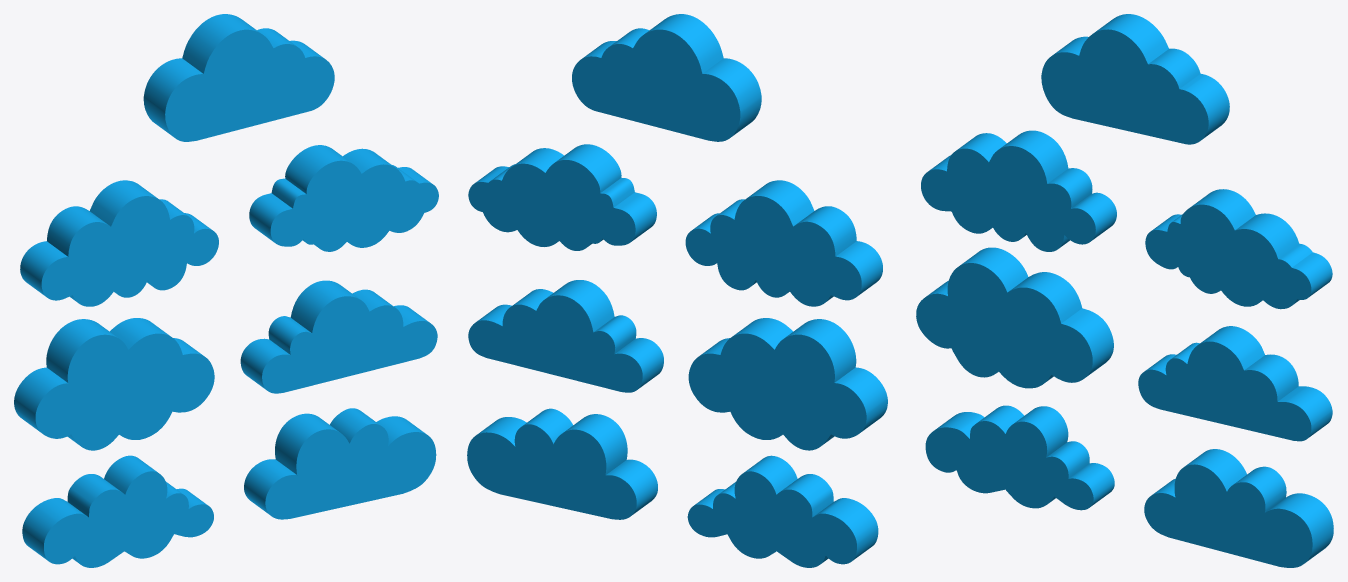
The model's file is storm-cloud.glb.
3 views of the same model, side by side, from view 1: azimuth 30°, elevation 25°; view 2: azimuth 150°, elevation 25°; view 3: azimuth 330°, elevation 25° (orthographic).
Parts seen in each view (by area): view 1: Curve, Curve.002, Curve.004, Curve.005, Curve.001, Curve.006, Curve.007; view 2: Curve, Curve.002, Curve.004, Curve.005, Curve.001, Curve.006, Curve.007; view 3: Curve, Curve.002, Curve.004, Curve.005, Curve.001, Curve.006, Curve.007.
Part boxes in pixels (bbox=[...]): Curve: bbox=[14, 318, 214, 450]; Curve.002: bbox=[143, 14, 334, 141]; Curve.004: bbox=[20, 180, 218, 306]; Curve.005: bbox=[244, 408, 436, 519]; Curve.001: bbox=[249, 145, 438, 251]; Curve.006: bbox=[240, 280, 437, 393]; Curve.007: bbox=[22, 455, 213, 567]; Curve: bbox=[688, 318, 887, 450]; Curve.002: bbox=[572, 14, 761, 141]; Curve.004: bbox=[685, 180, 882, 306]; Curve.005: bbox=[467, 408, 657, 519]; Curve.001: bbox=[468, 144, 656, 250]; Curve.006: bbox=[468, 280, 663, 392]; Curve.007: bbox=[687, 455, 878, 567]; Curve: bbox=[916, 247, 1113, 388]; Curve.002: bbox=[1041, 14, 1229, 144]; Curve.004: bbox=[921, 130, 1116, 251]; Curve.005: bbox=[1144, 449, 1333, 567]; Curve.001: bbox=[1145, 189, 1332, 309]; Curve.006: bbox=[1138, 326, 1332, 441]; Curve.007: bbox=[925, 405, 1114, 510].
Size of the model in its own units: 3.06 by 3.7 by 0.3155.
